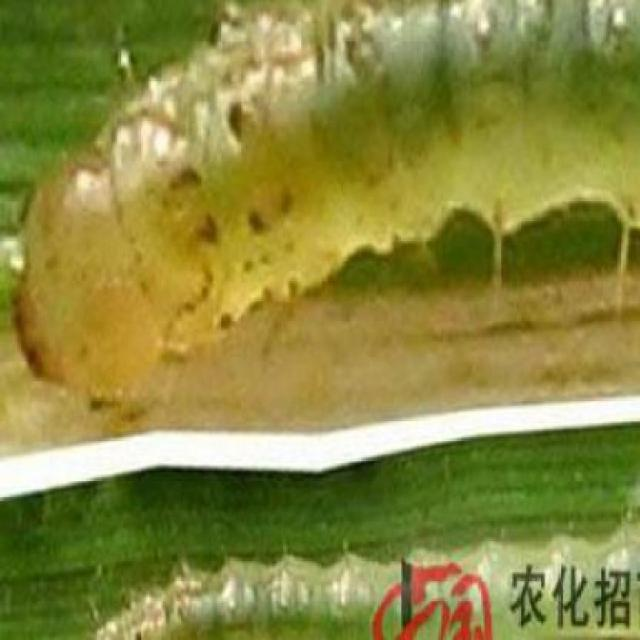leaf-folder: (35, 3, 640, 417)
